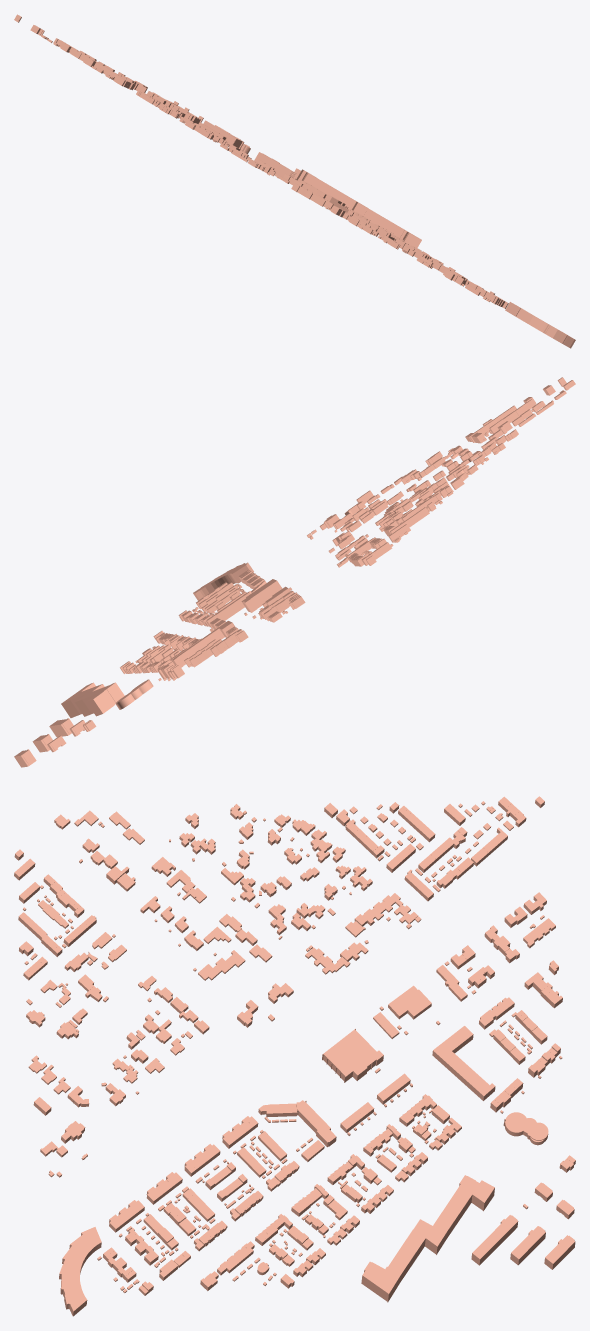
The picture shows the model from 3 angles, top to bottom: view 1: azimuth 30°, elevation 25°; view 2: azimuth 150°, elevation 25°; view 3: azimuth 270°, elevation 25°; orthographic projection. The views are drawn at different scales.
Bounding box in the file's own units: 548 × 398 × 632.
